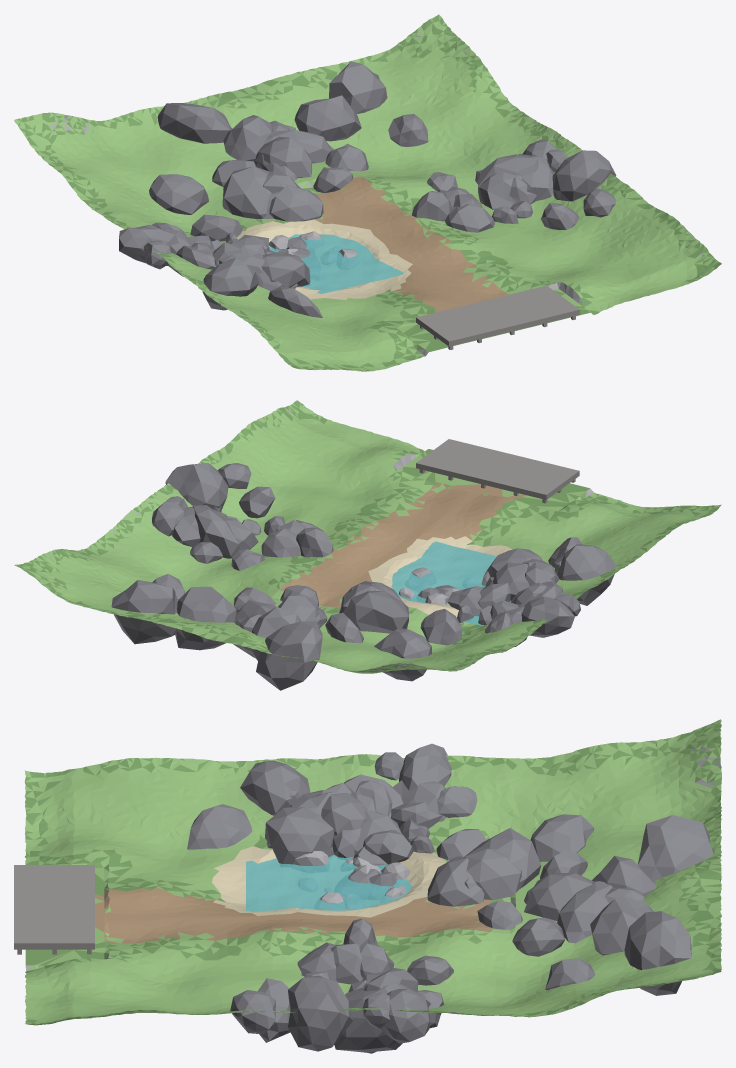
Rendered from Escene.glb.
The picture shows the model from 3 angles, top to bottom: view 1: azimuth 30°, elevation 25°; view 2: azimuth 150°, elevation 25°; view 3: azimuth 270°, elevation 25°; orthographic projection. The views are drawn at different scales.
Visible parts, largest first — view 1: Escenario_Jurasico-col, VR_Viewing_Platform, Pond_Water; view 2: Escenario_Jurasico-col, VR_Viewing_Platform, Pond_Water; view 3: Escenario_Jurasico-col, VR_Viewing_Platform, Pond_Water.
Boxes of the visible parts, x1=… form: Escenario_Jurasico-col: x1=14, y1=14, x2=721, y2=371; VR_Viewing_Platform: x1=416, y1=285, x2=579, y2=349; Pond_Water: x1=269, y1=234, x2=403, y2=293; Escenario_Jurasico-col: x1=14, y1=400, x2=721, y2=690; VR_Viewing_Platform: x1=416, y1=439, x2=579, y2=503; Pond_Water: x1=391, y1=541, x2=496, y2=625; Escenario_Jurasico-col: x1=24, y1=719, x2=721, y2=1053; VR_Viewing_Platform: x1=14, y1=865, x2=94, y2=954; Pond_Water: x1=246, y1=839, x2=431, y2=911.
Size of the model in its own units: 54.75 by 11.69 by 61.07.
